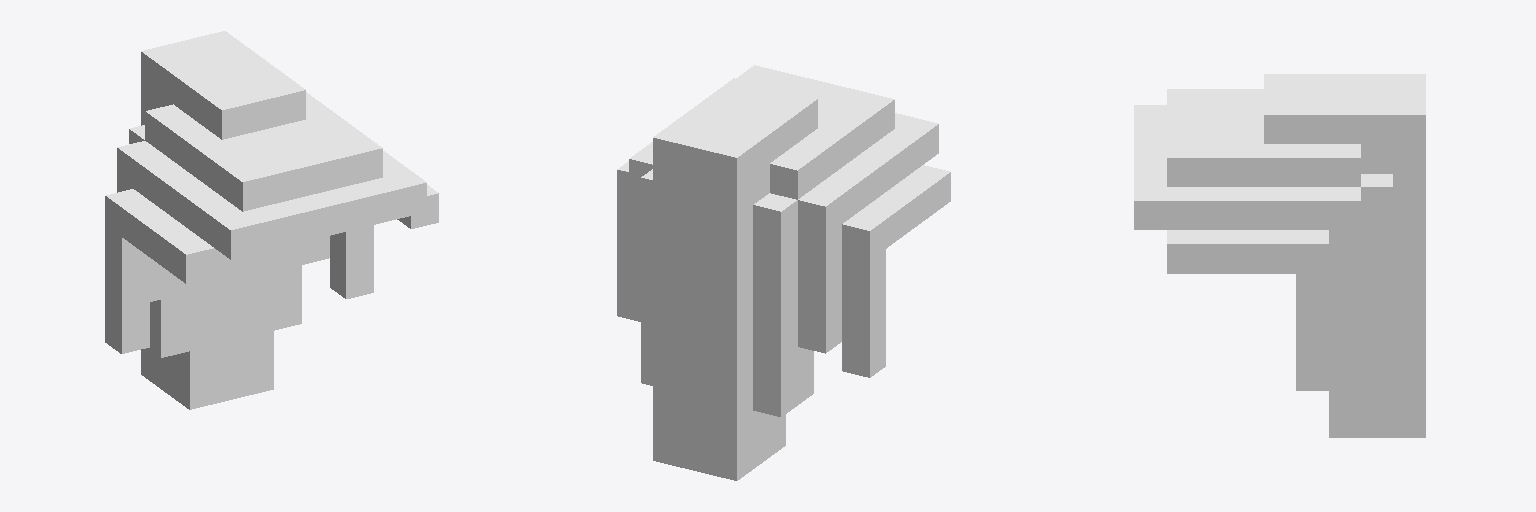
File: hair06.obj
The picture shows the model from 3 angles: view 1: azimuth 30°, elevation 25°; view 2: azimuth 150°, elevation 25°; view 3: azimuth 270°, elevation 25°; orthographic projection.
Visible parts, largest first — view 1: object 1; view 2: object 1; view 3: object 1.
Boxes of the visible parts, x1,y1,x2,y2 form: object 1: [105, 31, 438, 409]; object 1: [617, 65, 950, 480]; object 1: [1134, 74, 1425, 437].
Size of the model in its own units: 0.9 by 1.1 by 0.9.